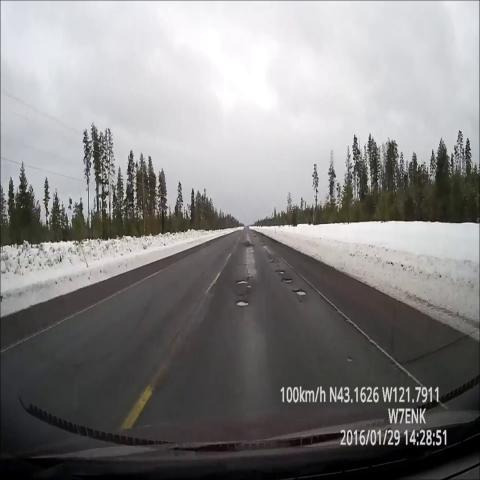pothole: (231, 272, 256, 292), (234, 290, 254, 311), (236, 233, 258, 251), (291, 282, 311, 300), (279, 272, 295, 288), (274, 264, 288, 278), (249, 232, 264, 245), (267, 252, 276, 265)
